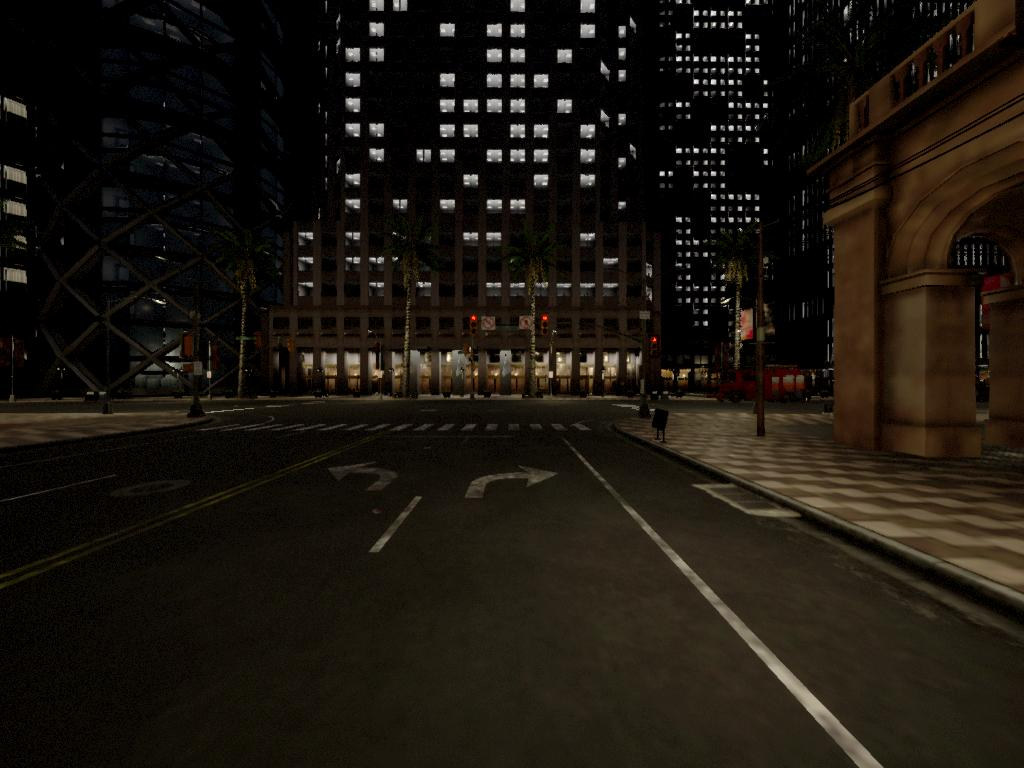traffic_light: (648, 336, 661, 359), (471, 317, 483, 336), (542, 317, 553, 335)
